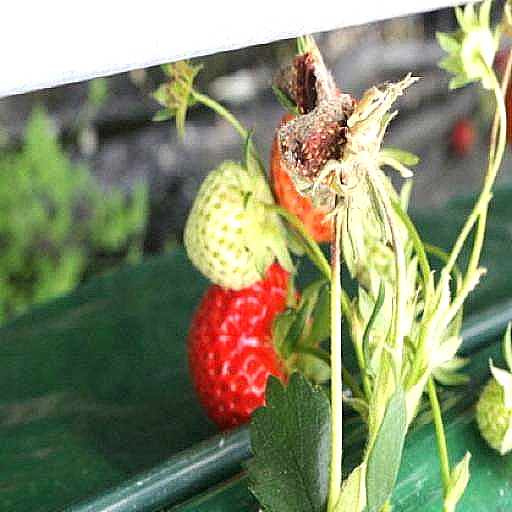Gray Mold: (273, 255, 420, 464)
